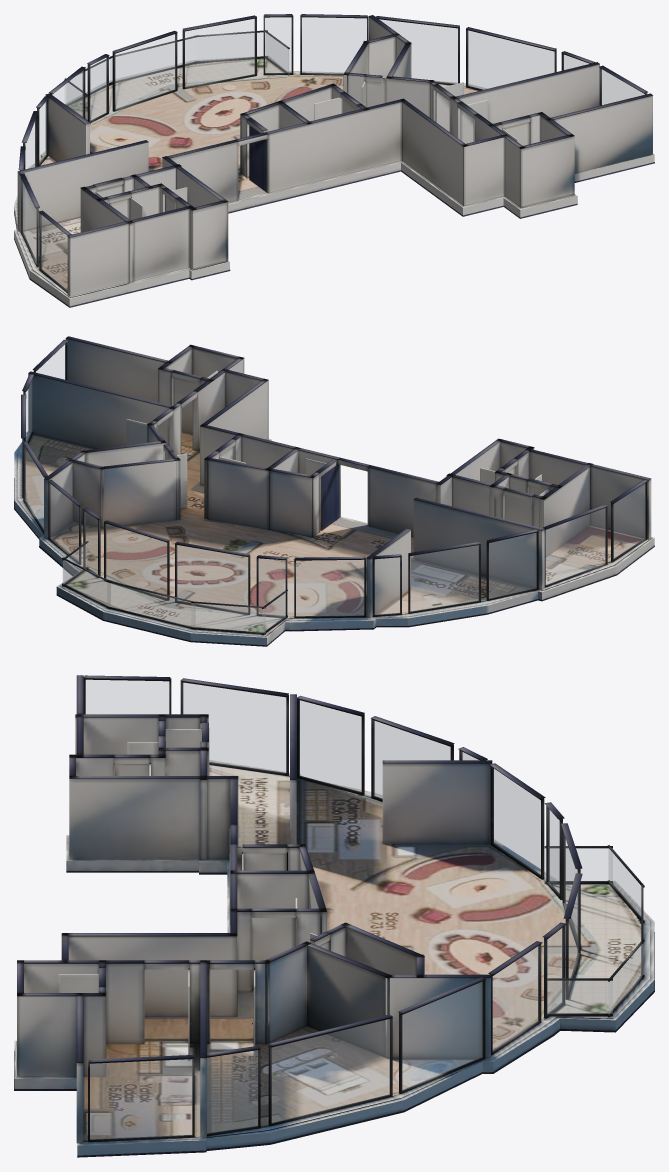
3 views of the same model, one above another, from view 1: azimuth 30°, elevation 25°; view 2: azimuth 150°, elevation 25°; view 3: azimuth 270°, elevation 25° (orthographic). The views are drawn at different scales.
Visible parts, largest first — view 1: plan, glass8_m, glass12_m, glass7_m, glass10_m, glass11_m, railg3_m, railg4_m, glass9_m, glass0_m, glass6_m, glass14_m (+6 smaller); view 2: plan, glass3_m, glass5_m, glass7_m, glass1_m, glass8_m, glass2_m, railg3_m, railg2_m, glass0_m, glass10_m, glass6_m (+7 smaller); view 3: plan, glass12_m, glass14_m, glass1_m, glass11_m, glass2_m, glass13_m, glass5_m, glass10_m, glass0_m, glass3_m, railg0_m (+5 smaller).
Part boxes in pixels (x1=…): plan: x1=14, y1=14, x2=654, y2=307; glass8_m: x1=185, y1=19, x2=254, y2=86; glass12_m: x1=468, y1=30, x2=554, y2=89; glass7_m: x1=115, y1=34, x2=175, y2=108; glass10_m: x1=302, y1=17, x2=366, y2=73; glass11_m: x1=380, y1=19, x2=457, y2=83; railg3_m: x1=110, y1=38, x2=195, y2=81; railg4_m: x1=197, y1=32, x2=263, y2=60; glass9_m: x1=265, y1=17, x2=291, y2=73; glass0_m: x1=41, y1=215, x2=67, y2=290; glass6_m: x1=90, y1=57, x2=106, y2=120; glass14_m: x1=601, y1=69, x2=644, y2=104; plan: x1=14, y1=336, x2=654, y2=646; glass3_m: x1=410, y1=545, x2=478, y2=611; glass5_m: x1=296, y1=560, x2=363, y2=616; glass7_m: x1=177, y1=545, x2=247, y2=612; glass1_m: x1=546, y1=508, x2=605, y2=585; glass8_m: x1=106, y1=524, x2=166, y2=597; glass2_m: x1=489, y1=533, x2=536, y2=598; railg3_m: x1=107, y1=582, x2=195, y2=627; railg2_m: x1=191, y1=603, x2=265, y2=632; glass0_m: x1=614, y1=483, x2=645, y2=558; glass10_m: x1=50, y1=484, x2=78, y2=561; glass6_m: x1=258, y1=558, x2=285, y2=615; plan: x1=14, y1=675, x2=654, y2=1157; glass12_m: x1=272, y1=1019, x2=389, y2=1123; glass14_m: x1=90, y1=1059, x2=192, y2=1139; glass1_m: x1=183, y1=683, x2=285, y2=773; glass11_m: x1=402, y1=982, x2=482, y2=1090; glass2_m: x1=299, y1=700, x2=361, y2=792; glass13_m: x1=207, y1=1050, x2=257, y2=1133; glass5_m: x1=493, y1=768, x2=540, y2=875; glass10_m: x1=493, y1=946, x2=538, y2=1051; glass0_m: x1=86, y1=680, x2=168, y2=713; glass3_m: x1=374, y1=721, x2=450, y2=798; railg0_m: x1=548, y1=981, x2=612, y2=1013.
Bounding box in the file's own units: 23.45 × 2.62 × 16.27.
2 materials, 1 textured.
